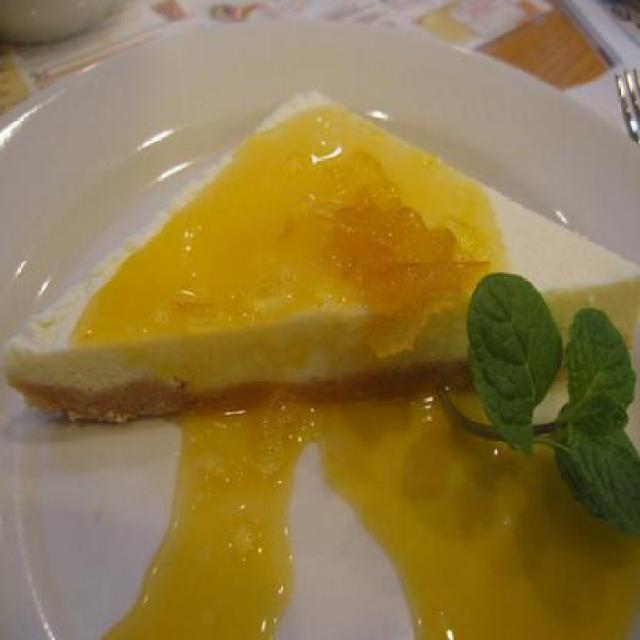Rare cheese cake: (6, 82, 640, 524)
